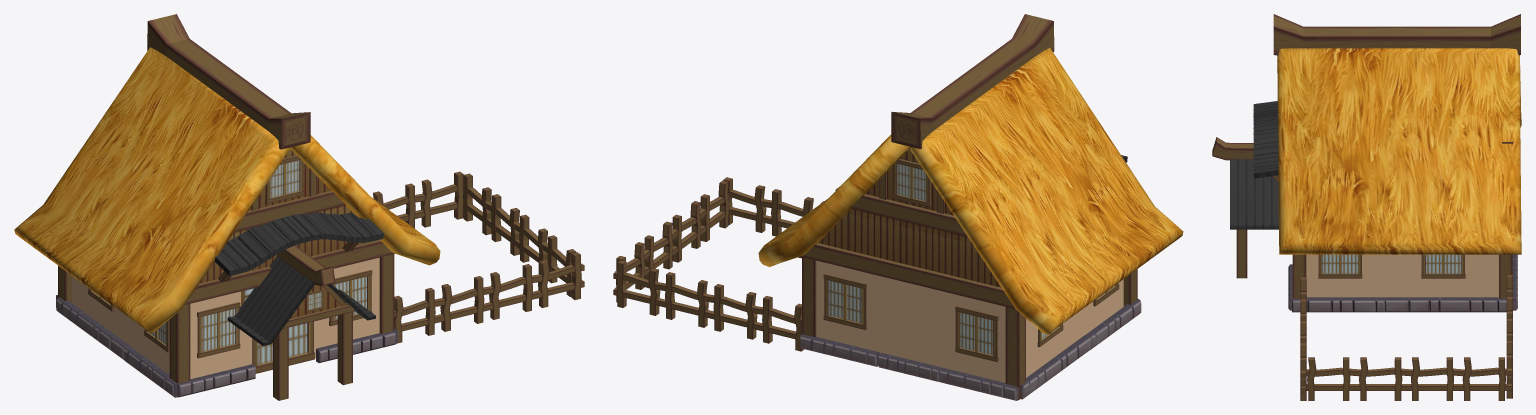
The model's file is House01.fbx.
3 views of the same model, side by side, from view 1: azimuth 30°, elevation 25°; view 2: azimuth 150°, elevation 25°; view 3: azimuth 270°, elevation 25° (orthographic). The views are drawn at different scales.
Parts seen in each view (by area): view 1: Plane.020; view 2: Plane.020; view 3: Plane.020.
Part boxes in pixels (x1,y1,x2,y2): Plane.020: [14, 14, 584, 400]; Plane.020: [613, 14, 1183, 400]; Plane.020: [1212, 14, 1521, 400].
Bounding box in the file's own units: 834 × 470 × 536.
Materials: 2 (1 with a texture image).
